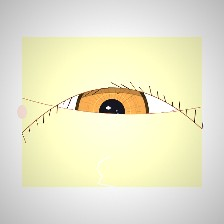foreign_body_visible: (61, 77, 83, 94)
